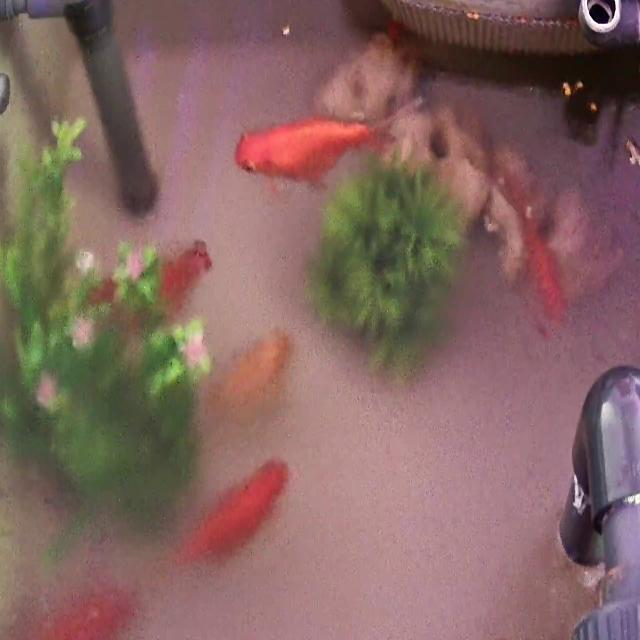fish: (172, 455, 290, 566), (85, 238, 216, 317), (235, 117, 357, 191), (0, 578, 141, 640), (204, 328, 290, 424), (519, 212, 567, 323)
